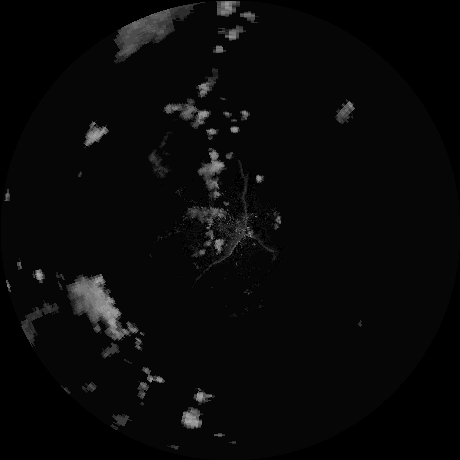frontgust: (203, 161, 250, 272)
